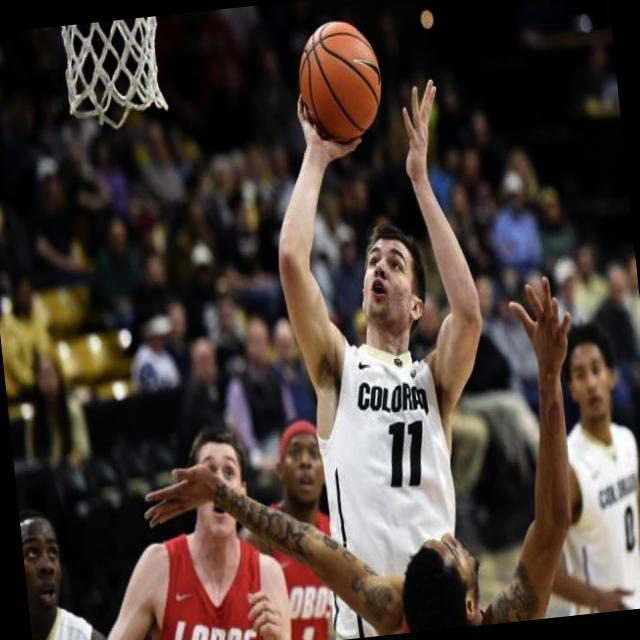ball: (294, 16, 387, 143)
